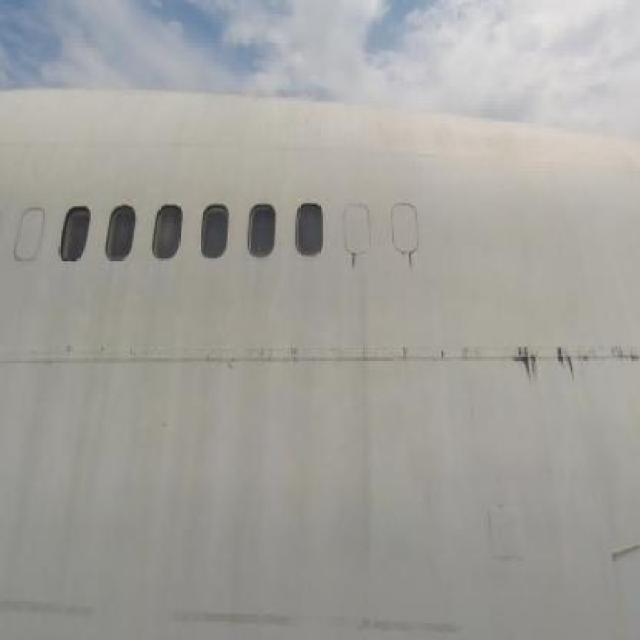Rust: (500, 331, 640, 406), (340, 252, 368, 278), (405, 248, 420, 277)
Scartch: (6, 587, 467, 640)
